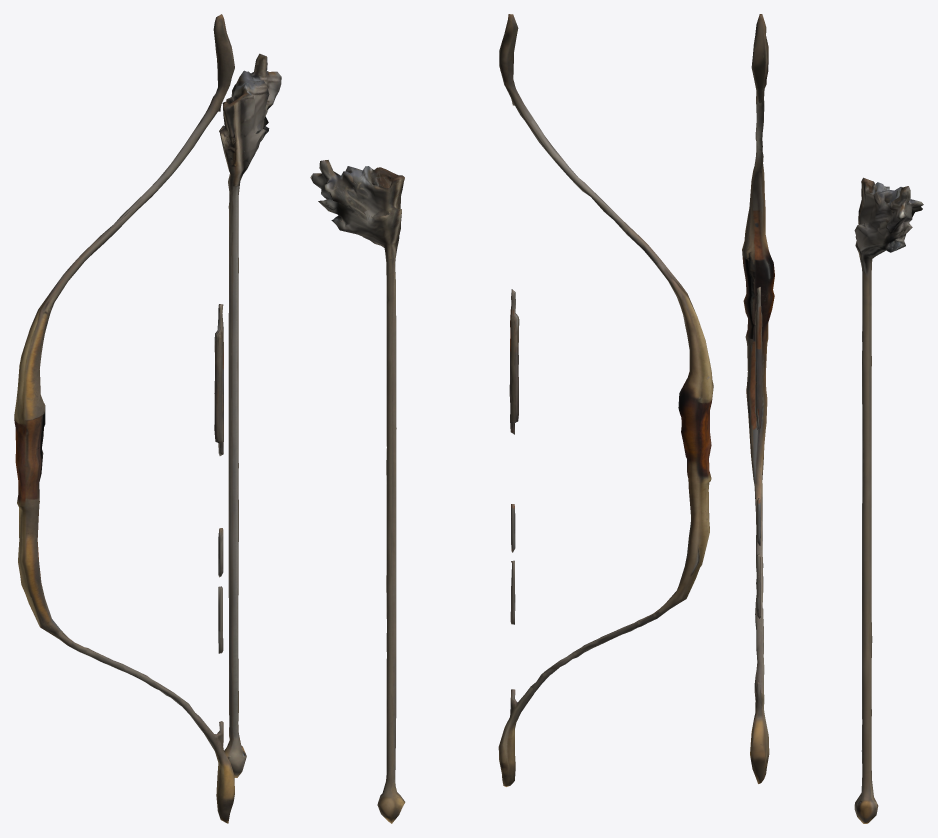
The model's file is bow_arrow.glb.
3 views of the same model, side by side, from view 1: azimuth 30°, elevation 25°; view 2: azimuth 150°, elevation 25°; view 3: azimuth 270°, elevation 25° (orthographic). The views are drawn at different scales.
Bounding box in the file's own units: 0.8717 × 2 × 0.4246.
1 material, 1 textured.
